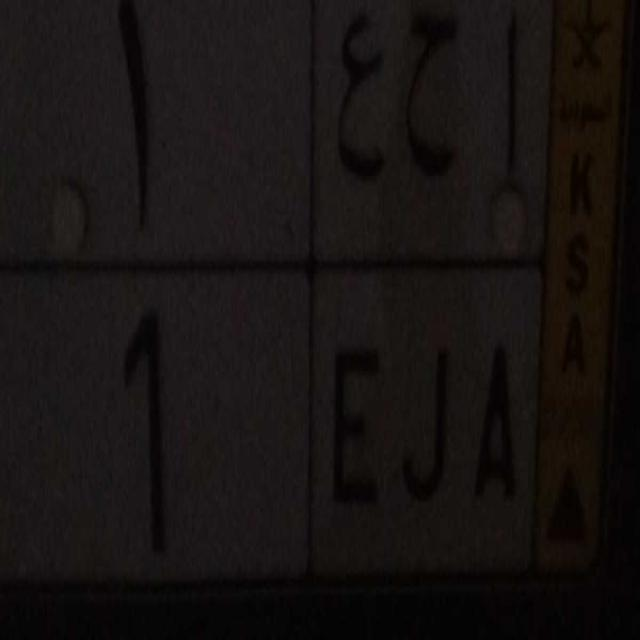license_plate: (0, 265, 547, 588)
